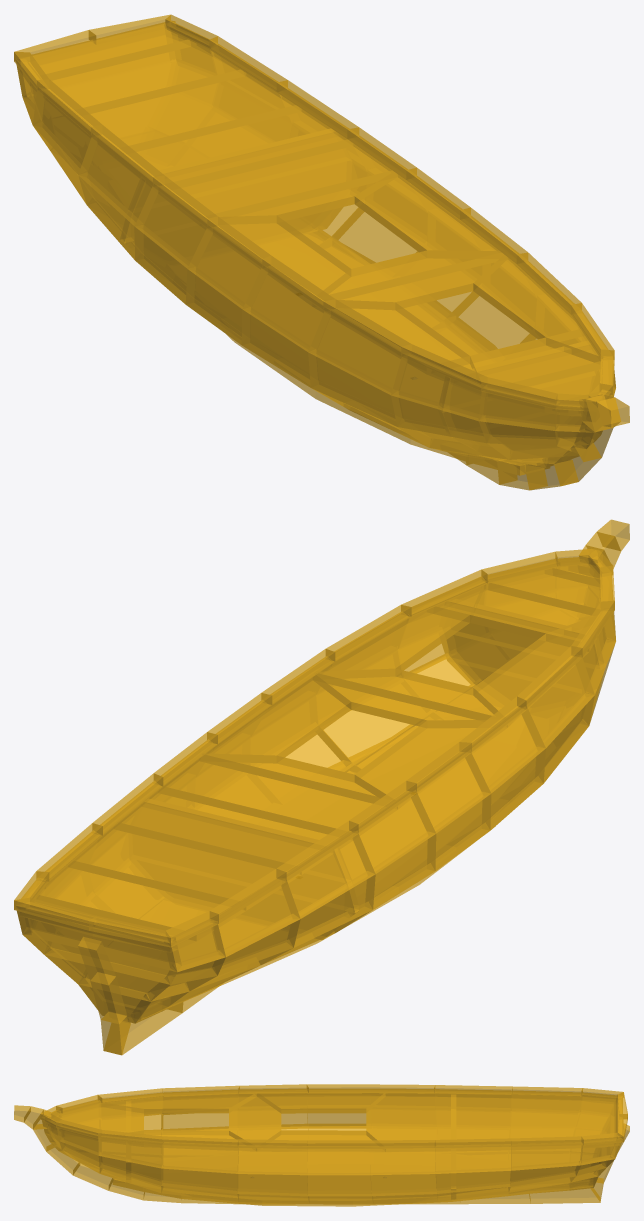
File: SM_Veh_Ship_M_Hull_01_Collision.fbx
3 views of the same model, one above another, from view 1: azimuth 30°, elevation 25°; view 2: azimuth 150°, elevation 25°; view 3: azimuth 270°, elevation 25° (orthographic). The views are drawn at different scales.
Parts seen in each view (by area): view 1: SM_Veh_Ship_M_Hull_01_Collision; view 2: SM_Veh_Ship_M_Hull_01_Collision; view 3: SM_Veh_Ship_M_Hull_01_Collision.
Part boxes in pixels (x1,y1,x2,y2): SM_Veh_Ship_M_Hull_01_Collision: (14, 14, 629, 490); SM_Veh_Ship_M_Hull_01_Collision: (14, 519, 629, 1055); SM_Veh_Ship_M_Hull_01_Collision: (14, 1084, 629, 1206).
Size of the model in its own units: 825 by 514 by 3053.
